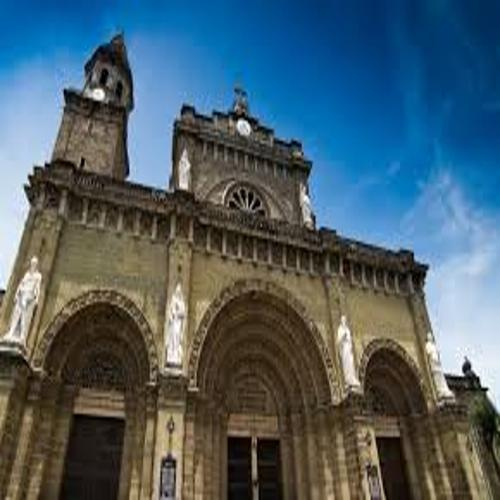Manila Cathedral Church: (7, 23, 486, 500)
